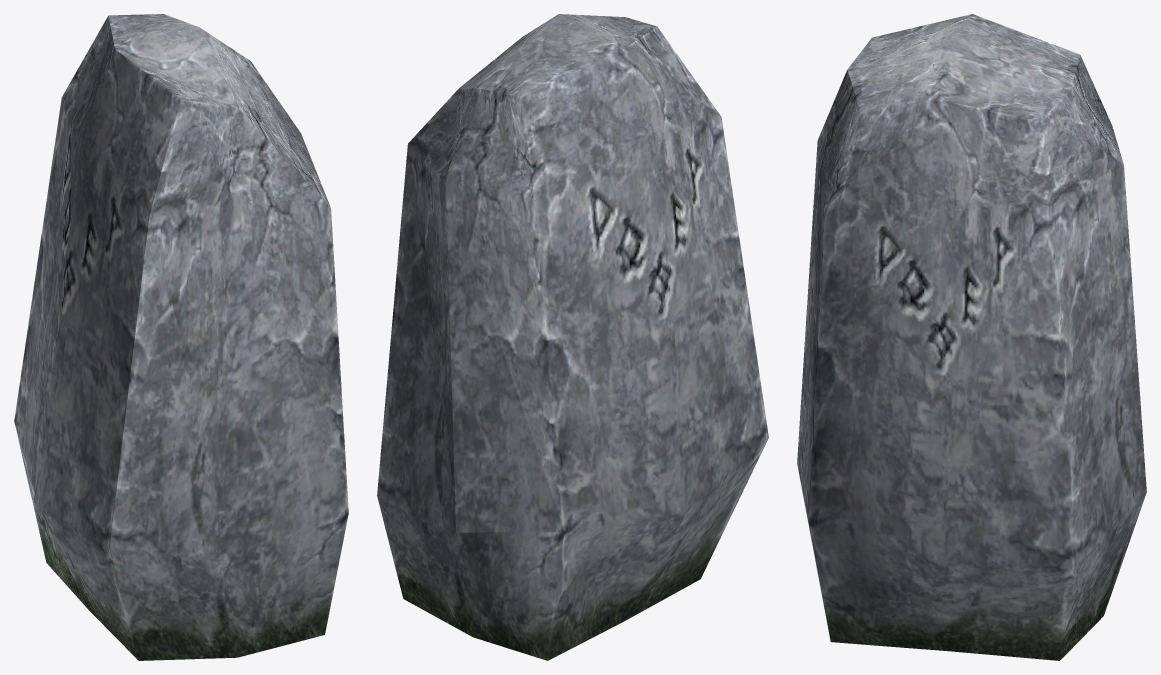
Rendered from stone01.glb.
The picture shows the model from 3 angles, left to right: view 1: azimuth 30°, elevation 25°; view 2: azimuth 150°, elevation 25°; view 3: azimuth 270°, elevation 25°; orthographic projection.
Visible parts, largest first — view 1: stone01-col; view 2: stone01-col; view 3: stone01-col.
Part boxes in pixels (box(x1,y1,x2,y2)): stone01-col: box(14, 14, 348, 660); stone01-col: box(377, 14, 768, 660); stone01-col: box(797, 14, 1146, 660).
Size of the model in its own units: 0.6827 by 1.38 by 0.7659.
2 materials, 2 textured.
